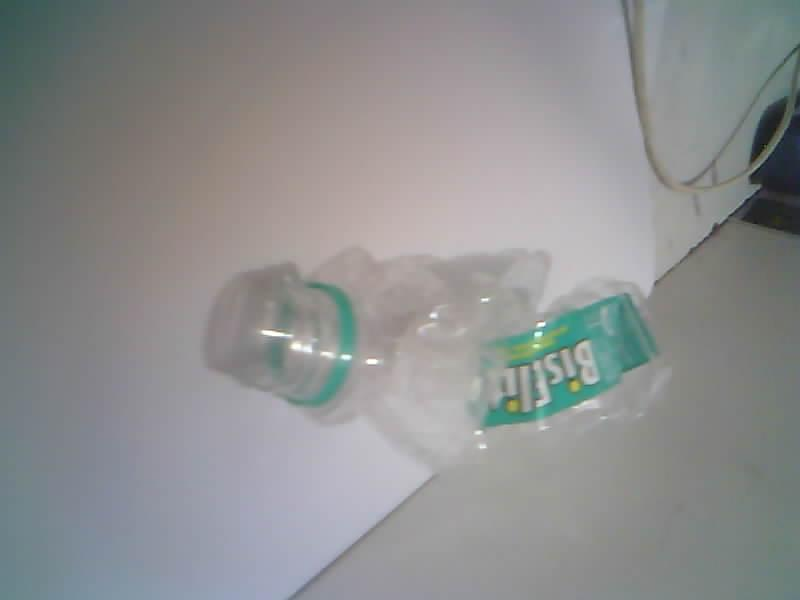non-biodegradable: (206, 249, 667, 467)
